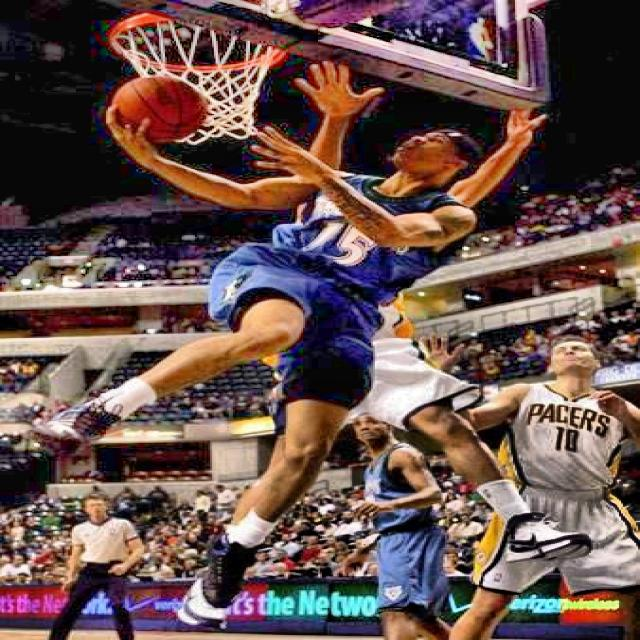board: (114, 77, 206, 141)
